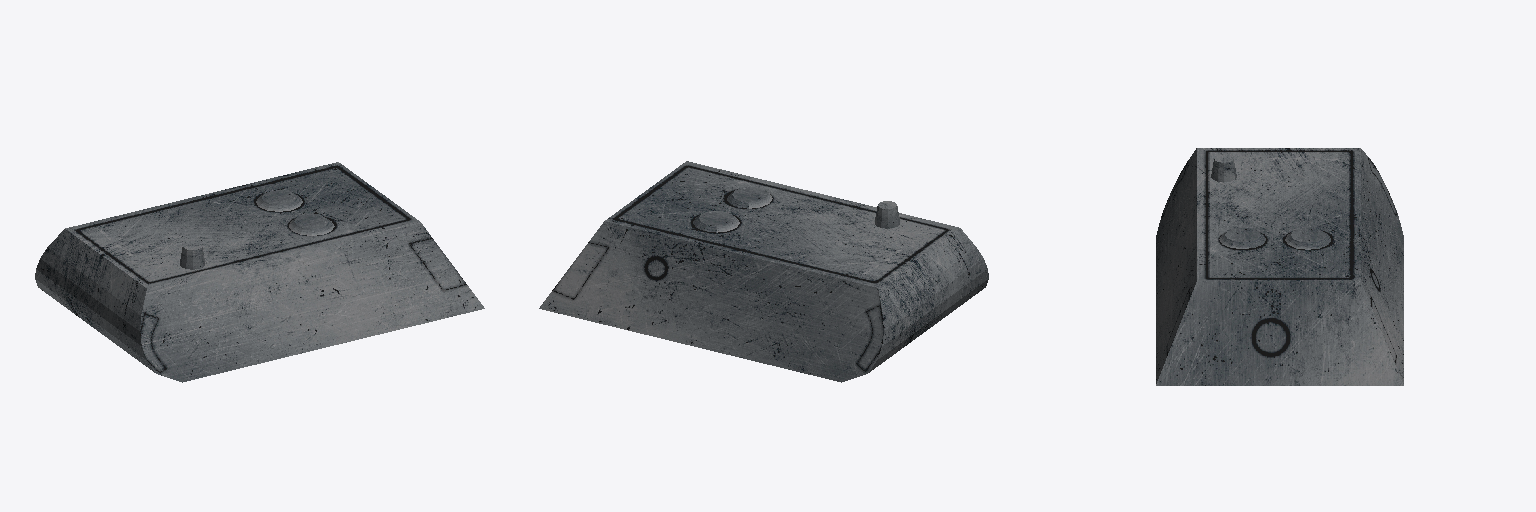
The picture shows the model from 3 angles: view 1: azimuth 30°, elevation 25°; view 2: azimuth 150°, elevation 25°; view 3: azimuth 270°, elevation 25°; orthographic projection.
Visible parts, largest first — view 1: turret_Cube.002, Cylinder.001, Cylinder.002_Cylinder.020, Cylinder; view 2: turret_Cube.002, Cylinder.001, Cylinder.002_Cylinder.020, Cylinder; view 3: turret_Cube.002, Cylinder.001, Cylinder.002_Cylinder.020, Cylinder.
Part boxes in pixels (left/top/right/bottom): turret_Cube.002: left=35, top=162, right=484, bottom=382; Cylinder.001: left=256, top=190, right=302, bottom=211; Cylinder.002_Cylinder.020: left=289, top=214, right=334, bottom=235; Cylinder: left=180, top=242, right=204, bottom=269; turret_Cube.002: left=539, top=161, right=988, bottom=382; Cylinder.001: left=693, top=211, right=739, bottom=232; Cylinder.002_Cylinder.020: left=727, top=187, right=772, bottom=208; Cylinder: left=875, top=201, right=899, bottom=228; turret_Cube.002: left=1156, top=148, right=1403, bottom=385; Cylinder.001: left=1285, top=228, right=1330, bottom=249; Cylinder.002_Cylinder.020: left=1219, top=228, right=1265, bottom=248; Cylinder: left=1211, top=155, right=1236, bottom=181.
Bounding box in the file's own units: 10.73 × 3.23 × 6.9.
Materials: 1 (1 with a texture image).